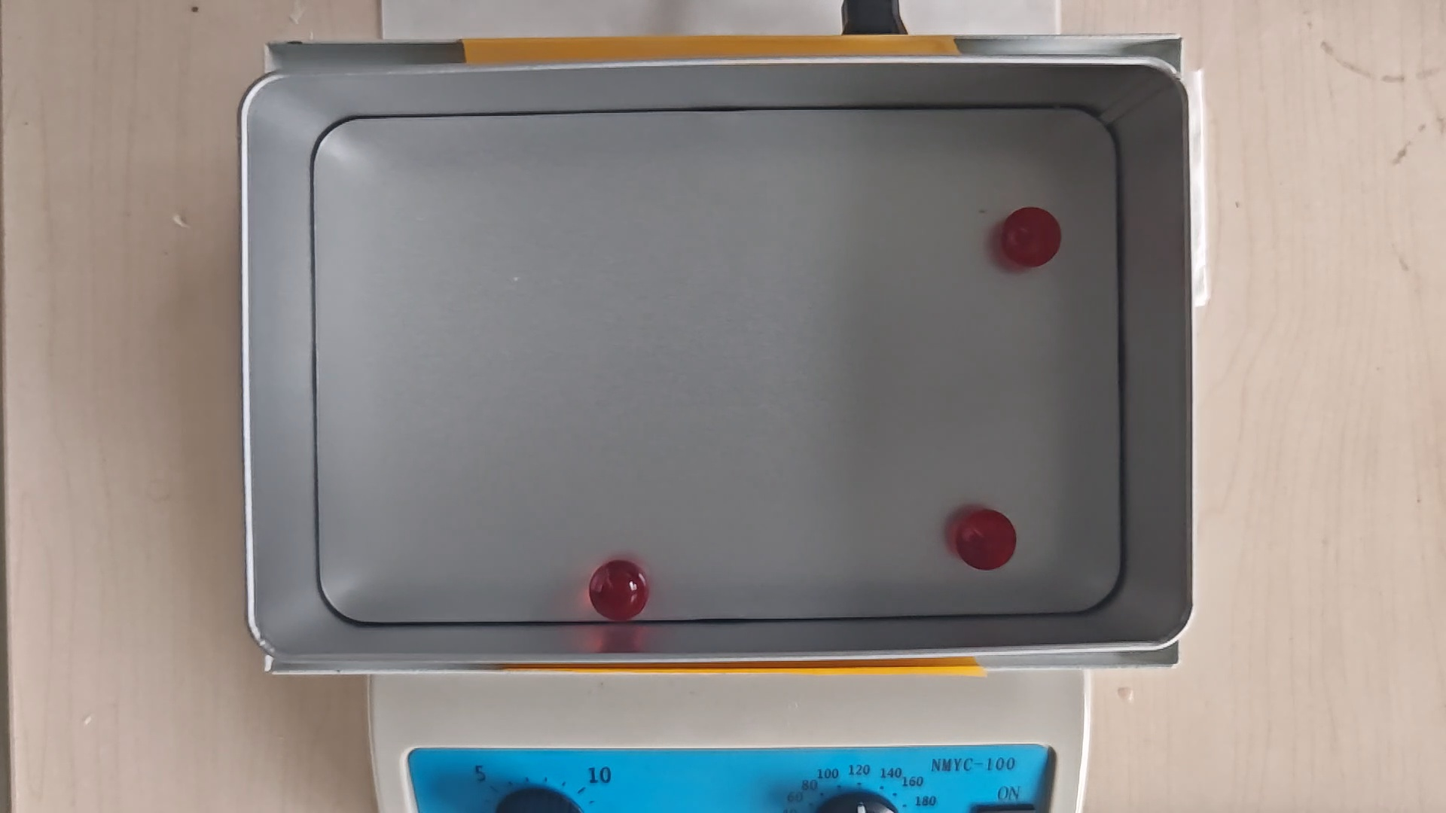ball: (959, 510, 1013, 572), (1004, 206, 1059, 266), (591, 562, 647, 620)
container: (310, 109, 1123, 620)
